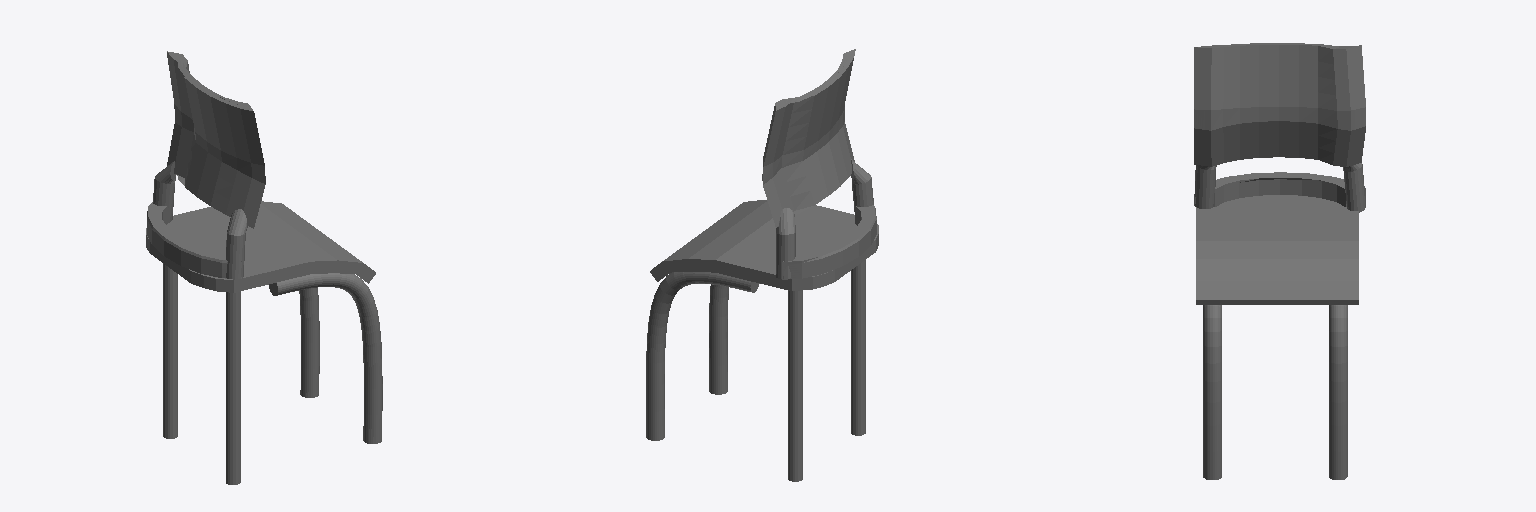
The model's file is Silla.obj.
3 views of the same model, side by side, from view 1: azimuth 30°, elevation 25°; view 2: azimuth 150°, elevation 25°; view 3: azimuth 270°, elevation 25° (orthographic).
Parts seen in each view (by area): view 1: Box004, Box006, Curve006, Cylinder005, Cylinder004, Box005, Curve008, Cylinder002, Cylinder003; view 2: Box004, Box006, Curve008, Cylinder004, Box005, Cylinder005, Curve006, Cylinder003, Cylinder002; view 3: Box004, Box006, Curve006, Curve008, Box005, Cylinder003, Cylinder002.
Part boxes in pixels (left/top/right/bottom): Box004: left=167, top=51, right=265, bottom=228; Box006: left=146, top=201, right=375, bottom=292; Curve006: left=269, top=273, right=382, bottom=443; Cylinder005: left=226, top=291, right=240, bottom=484; Cylinder004: left=163, top=263, right=177, bottom=438; Box005: left=147, top=202, right=241, bottom=278; Curve008: left=299, top=288, right=319, bottom=397; Cylinder002: left=226, top=209, right=247, bottom=279; Cylinder003: left=153, top=161, right=176, bottom=222; Box004: left=762, top=49, right=855, bottom=227; Box006: left=650, top=200, right=878, bottom=290; Curve008: left=646, top=272, right=759, bottom=440; Cylinder004: left=788, top=290, right=802, bottom=481; Box005: left=782, top=205, right=876, bottom=279; Cylinder005: left=851, top=260, right=865, bottom=435; Curve006: left=709, top=284, right=728, bottom=394; Cylinder003: left=776, top=208, right=795, bottom=278; Cylinder002: left=851, top=159, right=873, bottom=211; Box004: left=1194, top=43, right=1365, bottom=166; Box006: left=1196, top=195, right=1358, bottom=304; Curve006: left=1203, top=305, right=1221, bottom=479; Curve008: left=1329, top=305, right=1347, bottom=479; Box005: left=1195, top=172, right=1365, bottom=206; Cylinder003: left=1343, top=163, right=1365, bottom=212; Cylinder002: left=1194, top=165, right=1216, bottom=208.
Size of the model in its own units: 13.06 by 25.52 by 10.67.